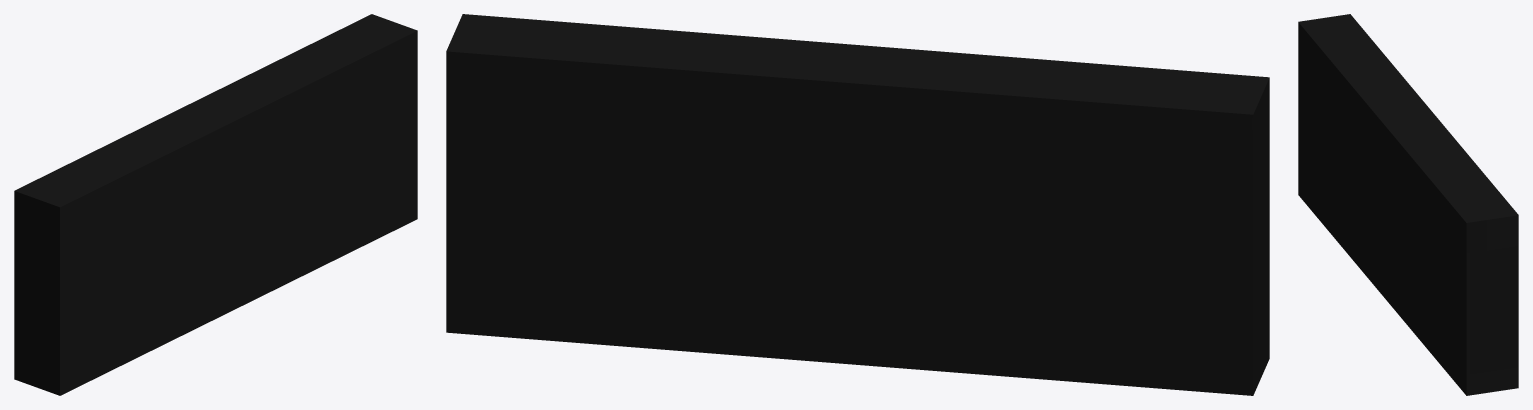
Rendered from backrest__backrest_pad.glb.
The picture shows the model from 3 angles, left to right: view 1: azimuth 30°, elevation 25°; view 2: azimuth 150°, elevation 25°; view 3: azimuth 270°, elevation 25°; orthographic projection. The views are drawn at different scales.
Parts seen in each view (by area): view 1: world; view 2: world; view 3: world.
Part boxes in pixels (<box>): world: <box>14,14,417,395</box>; world: <box>446,14,1269,395</box>; world: <box>1298,14,1518,395</box>.
Bounding box in the file's own units: 0.8031 × 0.31 × 0.3583.
1 material, 1 textured.
